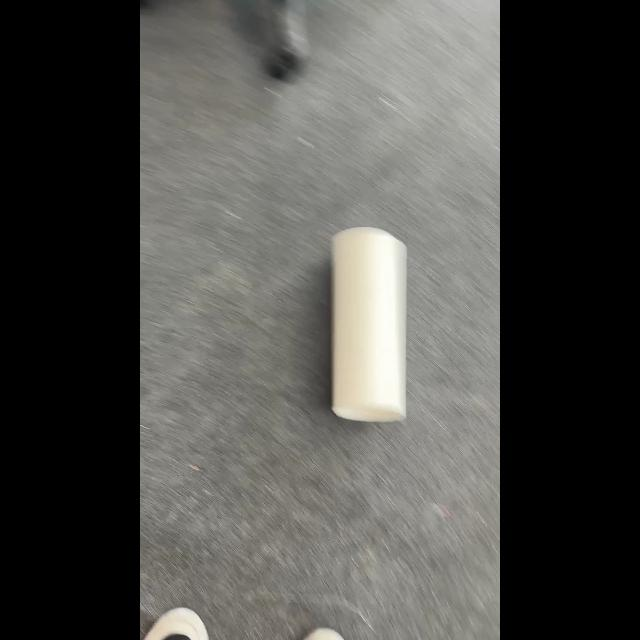CORAL: (330, 225, 408, 422)
